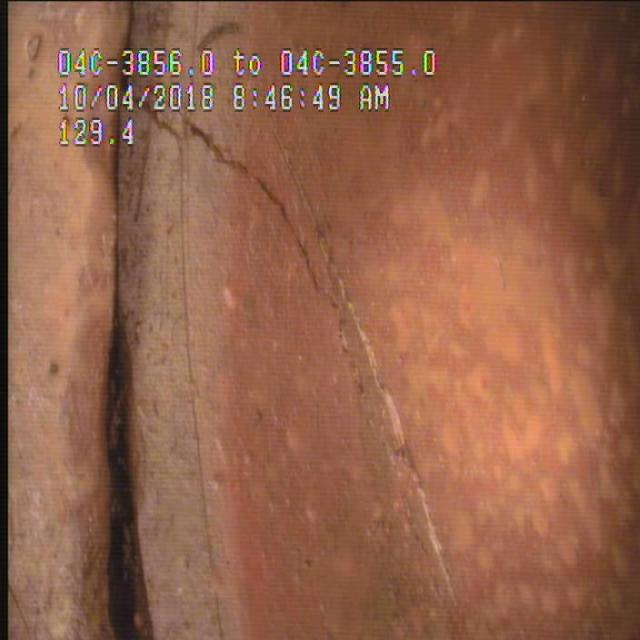Crack: (237, 148, 405, 431)
